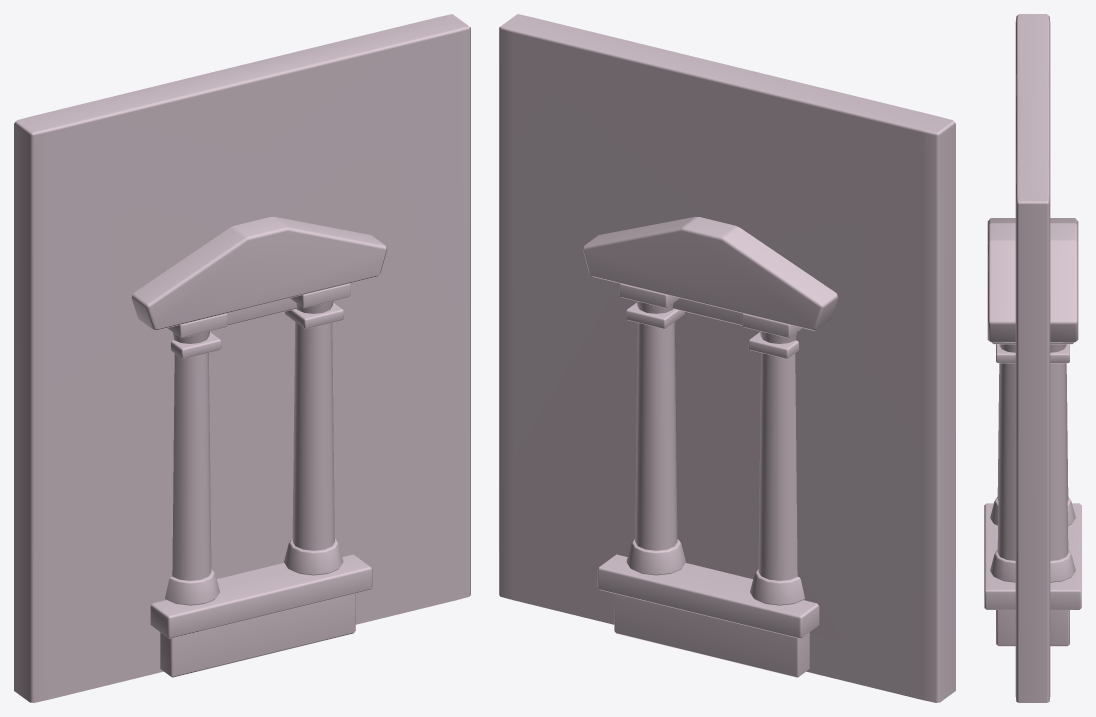
The model's file is mod_sc_roma_001_ar02_wall_006.FBX.
The picture shows the model from 3 angles, left to right: view 1: azimuth 30°, elevation 25°; view 2: azimuth 150°, elevation 25°; view 3: azimuth 270°, elevation 25°; orthographic projection. The views are drawn at different scales.
Visible parts, largest first — view 1: mod_sc_roma_001_ar02_wall_006; view 2: mod_sc_roma_001_ar02_wall_006; view 3: mod_sc_roma_001_ar02_wall_006.
Boxes of the visible parts, bbox=[...] form: mod_sc_roma_001_ar02_wall_006: bbox=[14, 14, 470, 702]; mod_sc_roma_001_ar02_wall_006: bbox=[499, 14, 955, 702]; mod_sc_roma_001_ar02_wall_006: bbox=[984, 14, 1081, 702].
Size of what is drawn, in the model's own units: 648 by 800 by 141.
